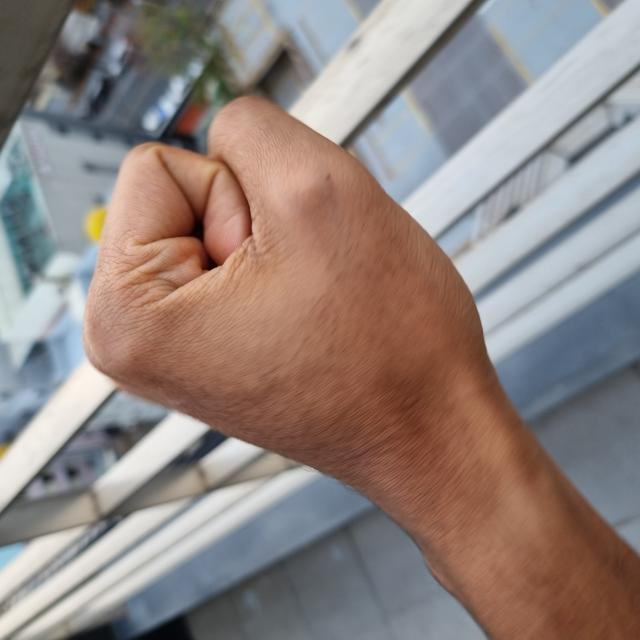Rock: (129, 85, 542, 493)
